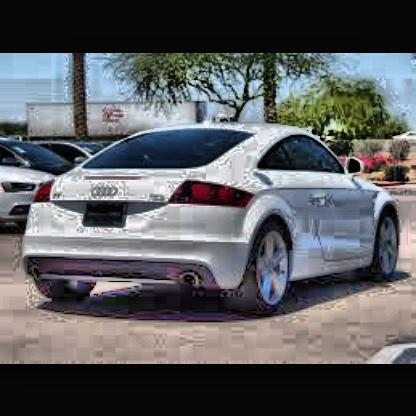Audi TT Hatchback 2011: (20, 121, 399, 310)
